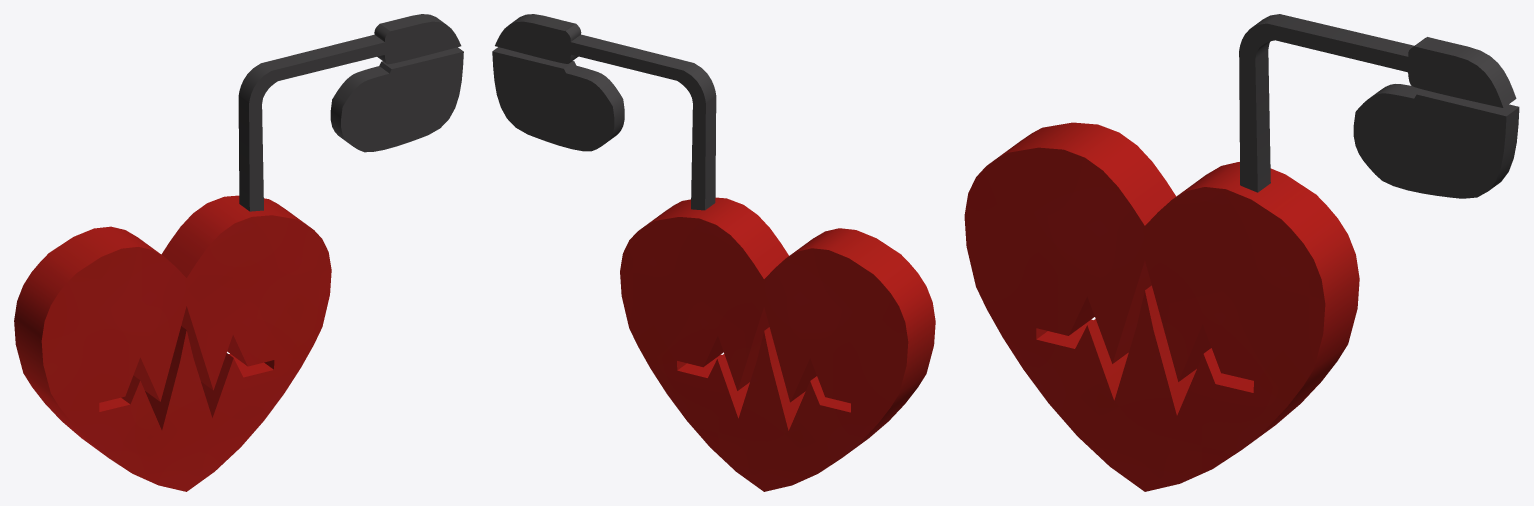
The model's file is Pacemaker.FBX.
3 views of the same model, side by side, from view 1: azimuth 30°, elevation 25°; view 2: azimuth 150°, elevation 25°; view 3: azimuth 330°, elevation 25° (orthographic). The views are drawn at different scales.
Parts seen in each view (by area): view 1: Object054; view 2: Object054; view 3: Object054.
Boxes of the visible parts, x1,y1,x2,y2 form: Object054: [14, 14, 463, 491]; Object054: [492, 14, 935, 491]; Object054: [964, 14, 1519, 491].
Size of the model in its own units: 66.34 by 59.79 by 7.39.
Materials: 1 (1 with a texture image).
